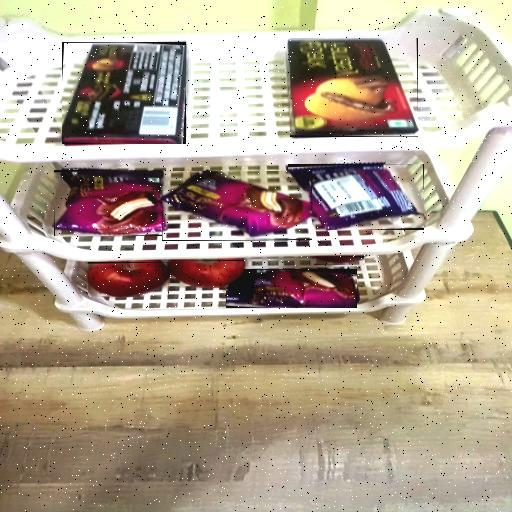Apple: (88, 262, 169, 297), (168, 260, 244, 288), (314, 256, 364, 265)
Choco Fills: (290, 38, 418, 137), (62, 42, 186, 144)
Choco Pie: (162, 172, 312, 242), (288, 164, 424, 230), (54, 170, 166, 236), (226, 269, 357, 308)
